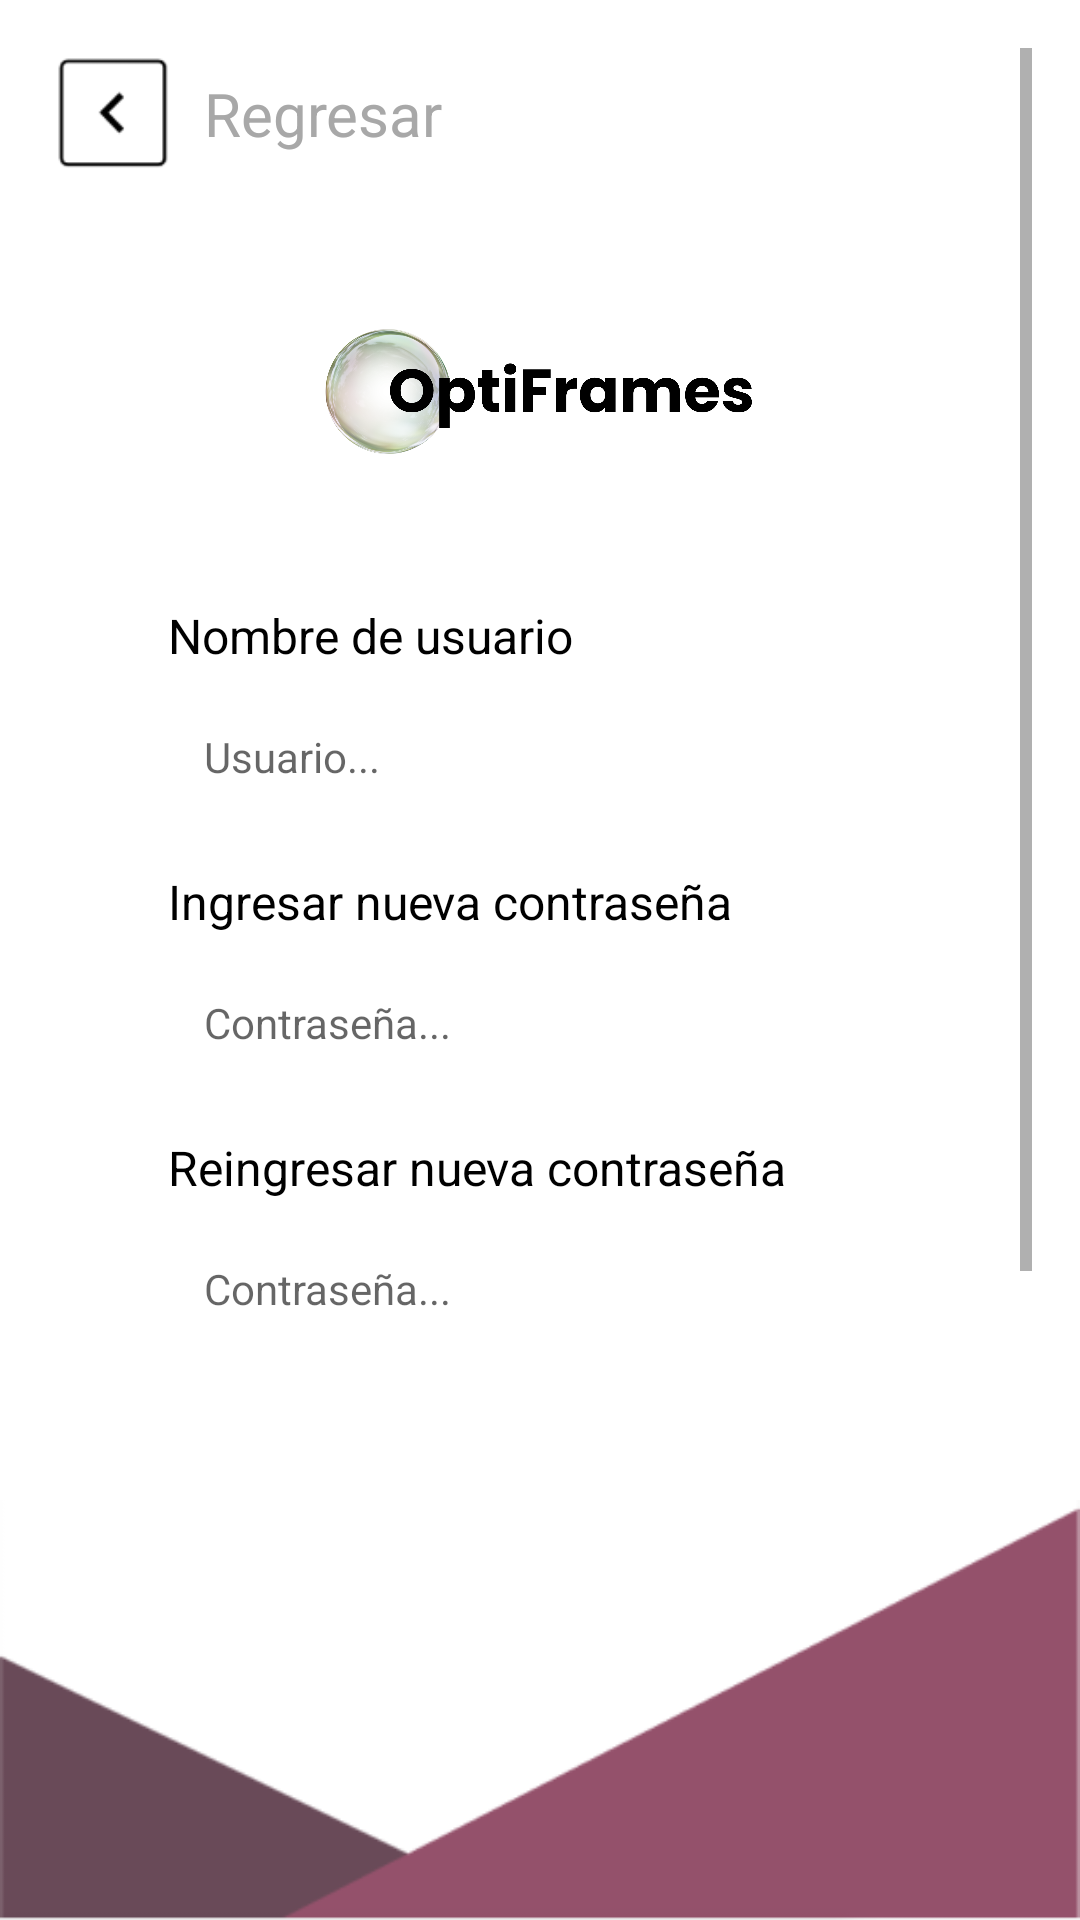

Where icons sit on this 1080 x 1920 app screen, as {"left": x1, "top": y1, "right": x2, "bottom": y2}:
Botón de retroceder: {"left": 58, "top": 58, "right": 168, "bottom": 167}
